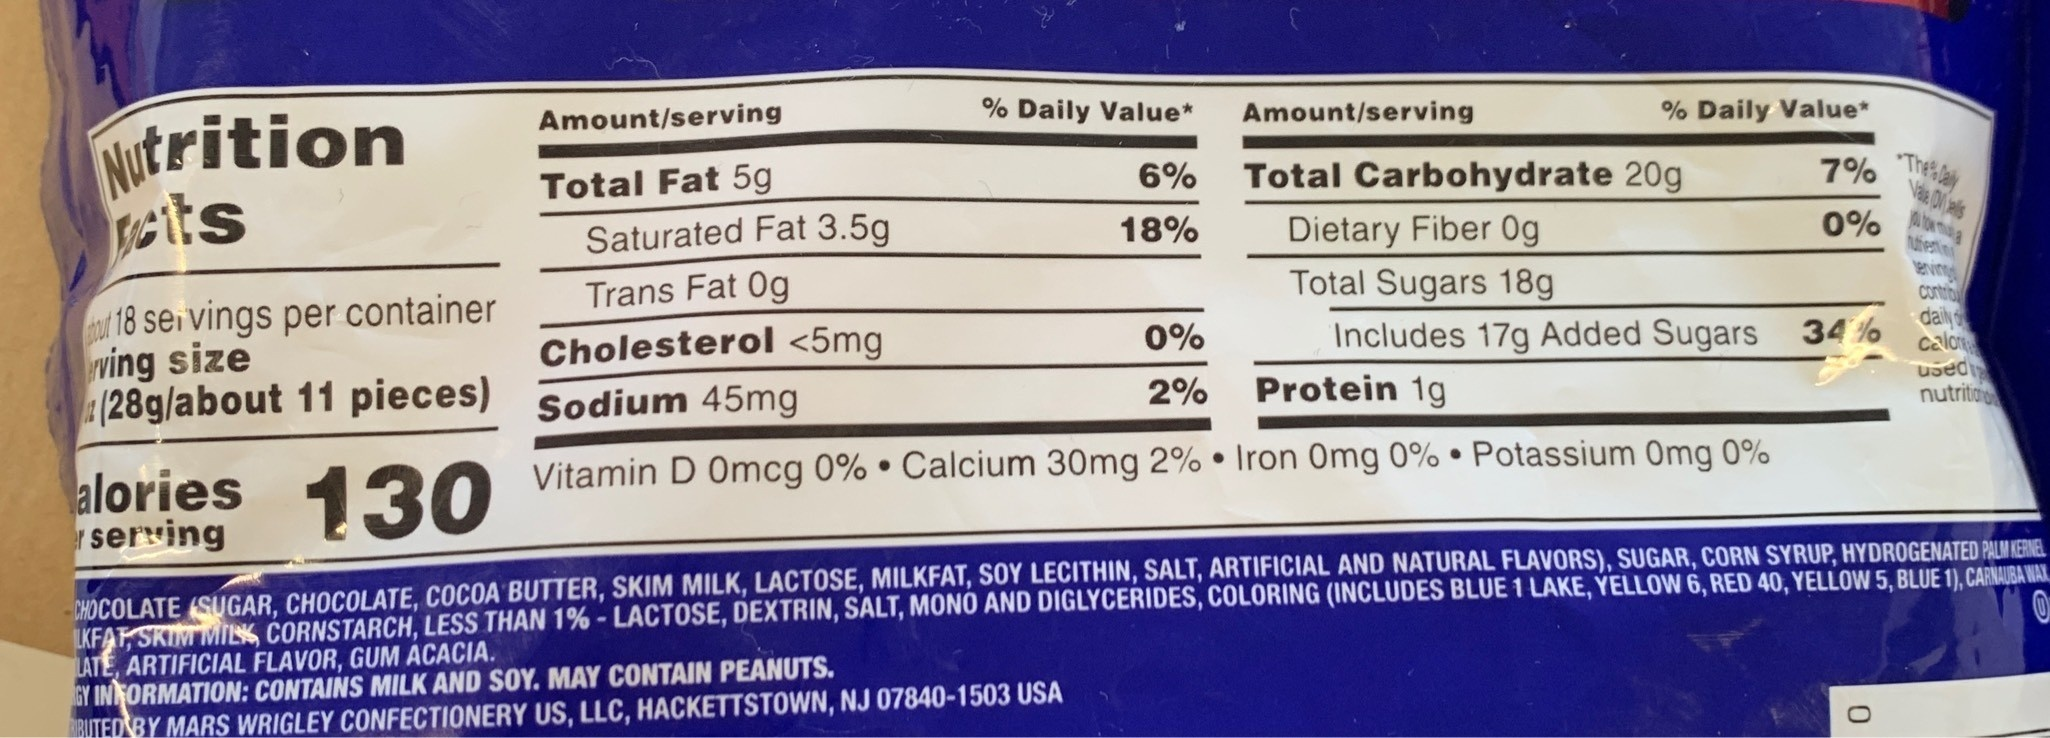column: (1245, 99, 1883, 413), (537, 96, 894, 420), (981, 97, 1211, 416)
table: (537, 97, 1211, 442), (1242, 96, 1890, 430)
